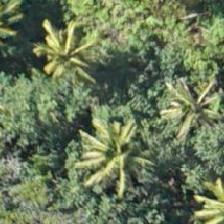coconut_tree: (13, 16, 103, 106), (59, 117, 149, 207), (8, 55, 98, 145), (152, 64, 223, 154)
